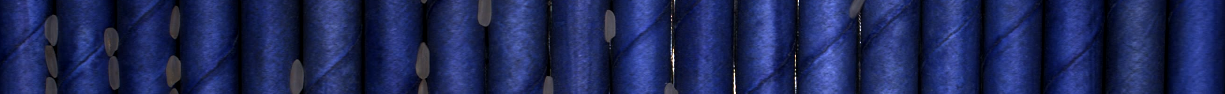broken_grain: (476, 1, 497, 28), (541, 72, 556, 94), (414, 78, 430, 94), (44, 76, 59, 93)
complete_grain: (42, 43, 61, 80), (414, 40, 431, 81), (288, 57, 306, 94), (601, 8, 618, 45), (43, 13, 60, 48), (106, 57, 123, 91), (167, 5, 181, 41)
yellow_grain: (165, 53, 183, 88)
